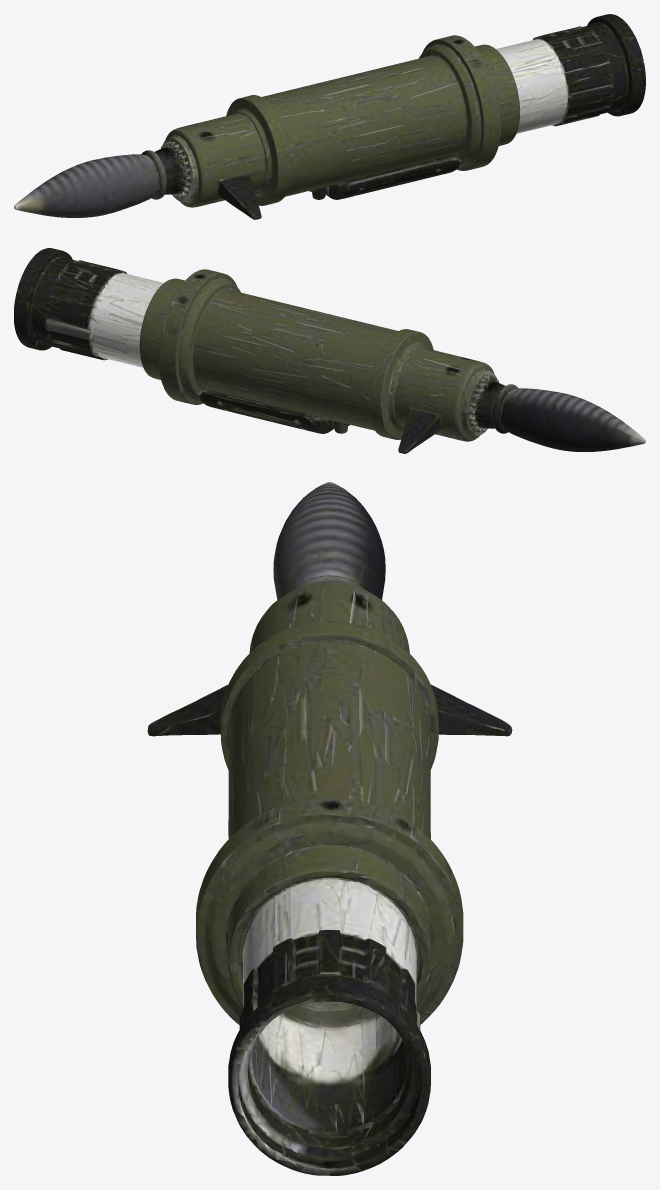
Rendered from rpg.glb.
3 views of the same model, one above another, from view 1: azimuth 30°, elevation 25°; view 2: azimuth 150°, elevation 25°; view 3: azimuth 270°, elevation 25° (orthographic). The views are drawn at different scales.
Bounding box in the file's own units: 1.9 × 0.3655 × 0.4938.
Materials: 1 (1 with a texture image).
